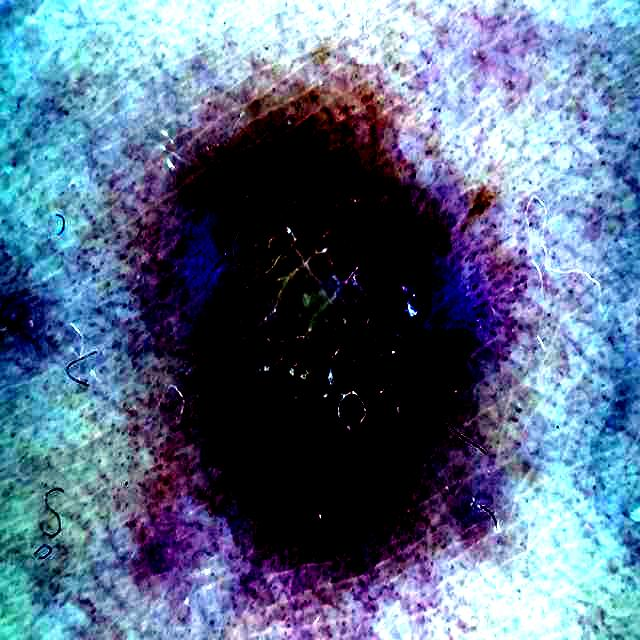DF: (175, 117, 489, 557)
